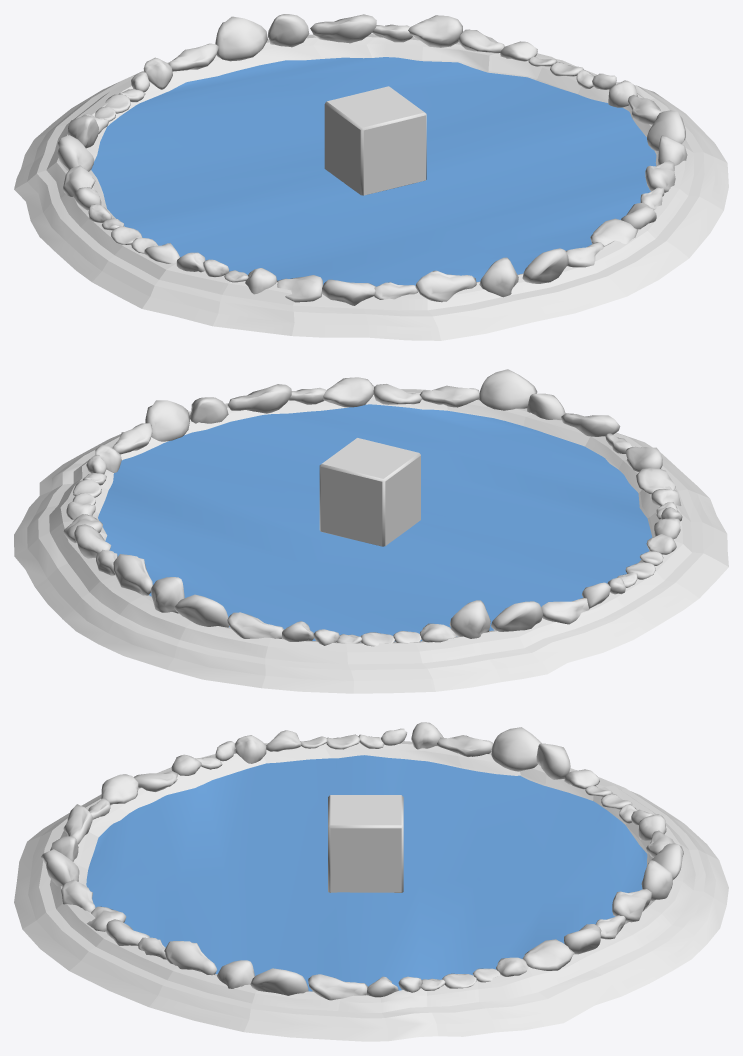
File: SpringPools_New.fbx
The picture shows the model from 3 angles, top to bottom: view 1: azimuth 30°, elevation 25°; view 2: azimuth 150°, elevation 25°; view 3: azimuth 270°, elevation 25°; orthographic projection.
Visible parts, largest first — view 1: Circle.001, Icosphere.018, Cube.044, Cube.014; view 2: Circle.001, Icosphere.018, Cube.044, Cube.014; view 3: Circle.001, Icosphere.018, Cube.044, Cube.014.
Boxes of the visible parts, box(x1,y1,x2,y2) form: Circle.001: box(91, 57, 656, 286); Icosphere.018: box(14, 34, 728, 340); Cube.044: box(57, 14, 687, 305); Cube.014: box(324, 86, 426, 195); Circle.001: box(98, 404, 652, 641); Icosphere.018: box(14, 389, 728, 693); Cube.044: box(63, 369, 682, 646); Cube.014: box(319, 438, 420, 546); Circle.001: box(86, 755, 647, 991); Icosphere.018: box(14, 741, 728, 1041); Cube.044: box(41, 722, 683, 1000); Cube.014: box(328, 795, 403, 892).
Size of the model in its own units: 250 by 34.34 by 253.
